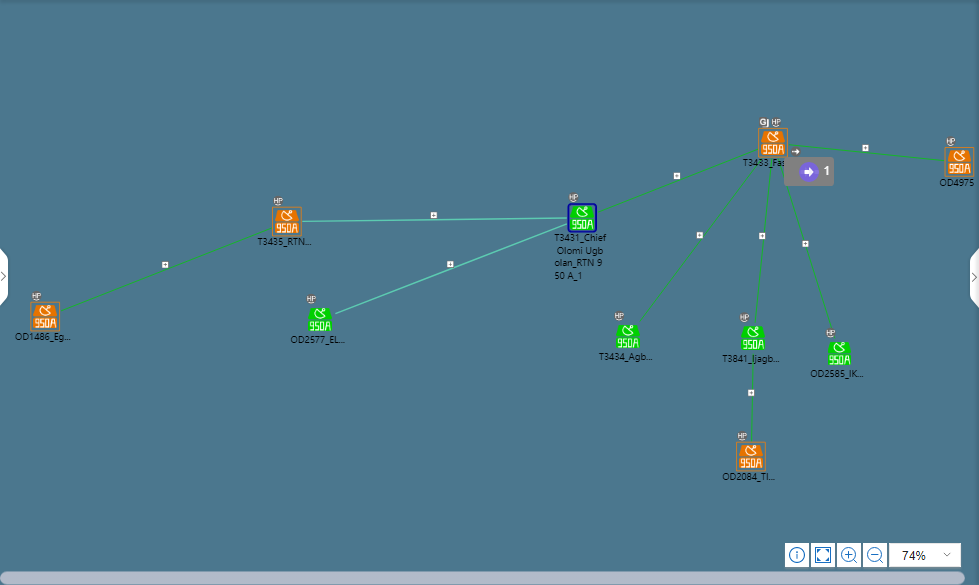Link_Blue: (333, 222, 561, 319)
Link_Green: (639, 161, 757, 315), (58, 228, 262, 312), (774, 161, 840, 343), (597, 149, 750, 211), (798, 143, 944, 166), (756, 155, 779, 285)
RTN_Green: (566, 204, 594, 233), (743, 326, 766, 355), (615, 326, 644, 348), (829, 345, 852, 367), (309, 308, 330, 331)
RTN_Orange: (945, 149, 974, 178), (762, 130, 791, 159), (737, 442, 766, 471), (272, 210, 300, 239), (34, 302, 63, 329)
